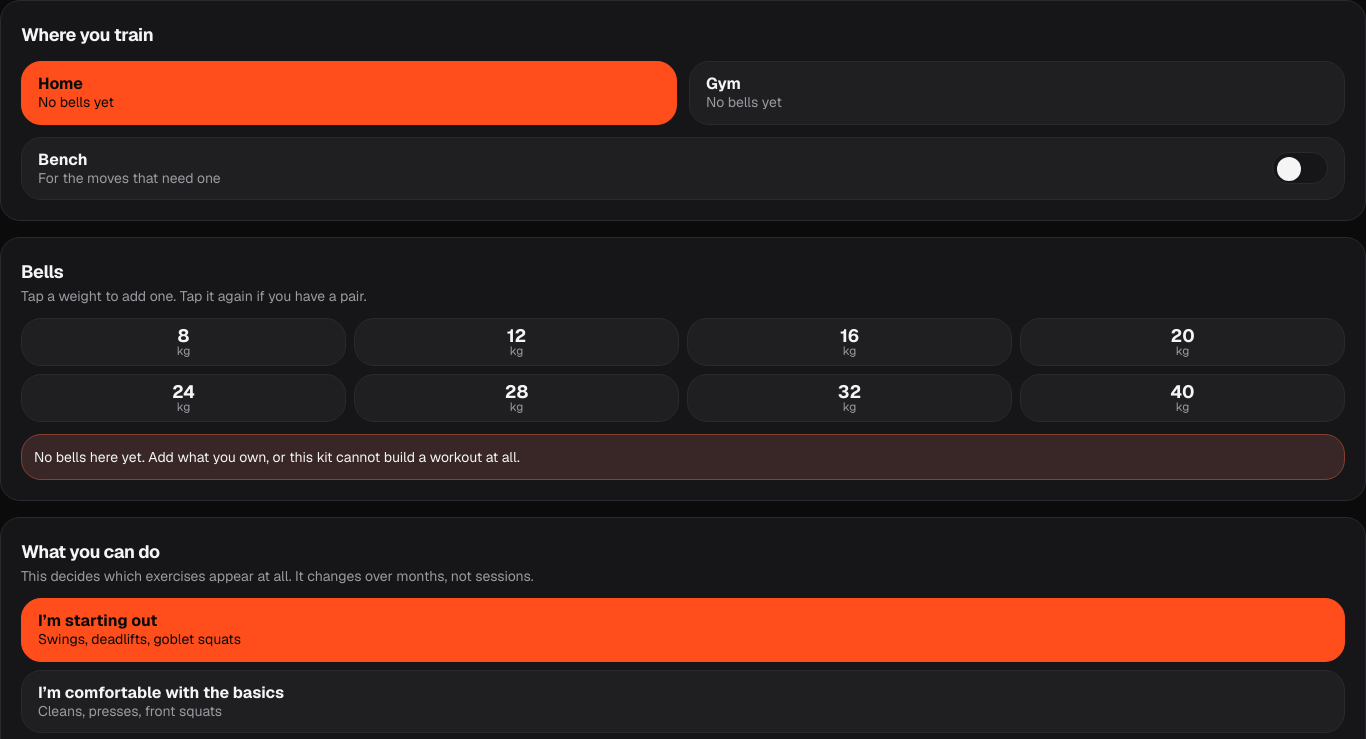
Scenario: KitEditor › warns again if the third weight is taken back off
What coordinates should you click on to do the following:
click the button with aria-label "Add a 16 kg bell"
I would click on:
 (850, 342)
Its box is [687, 318, 1012, 366].
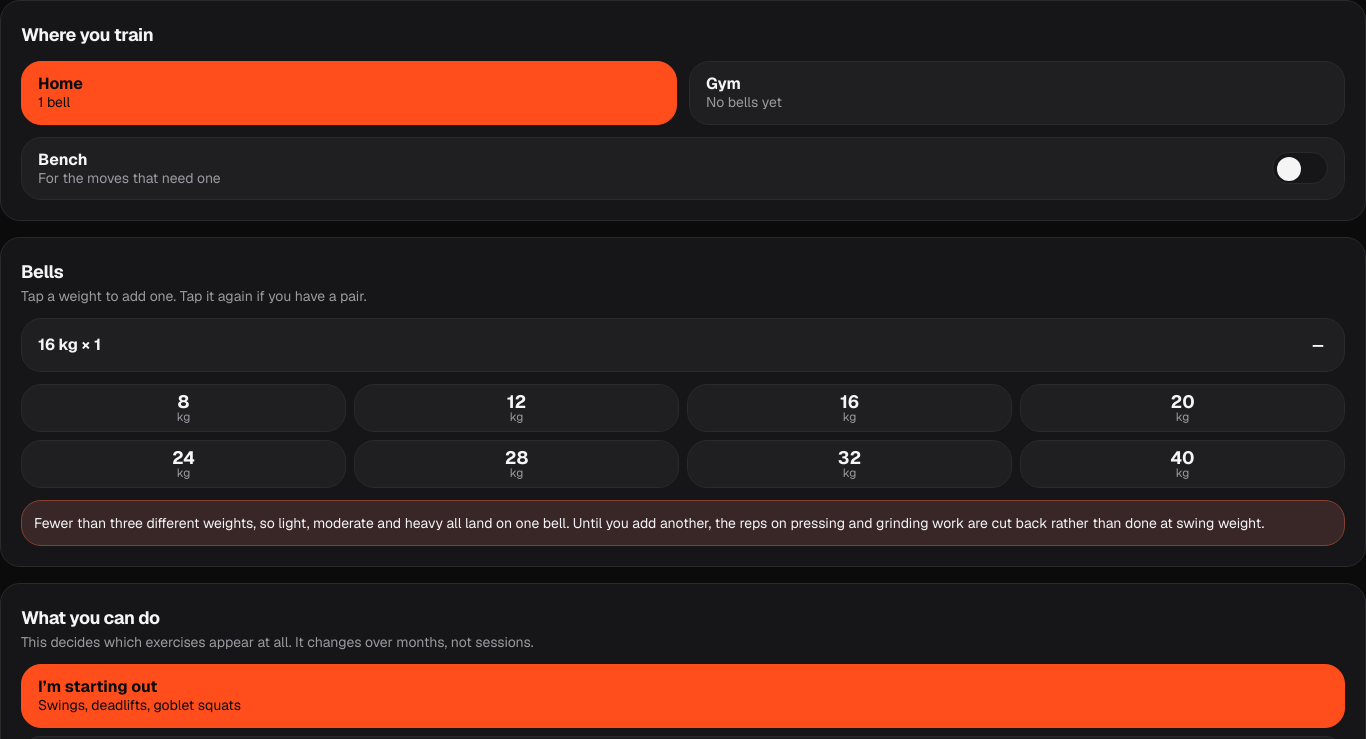
What coordinates should you click on to do the following:
click the button with aria-label "Add a 24 kg bell"
I would click on:
 (184, 464)
Its box is [21, 440, 346, 488].
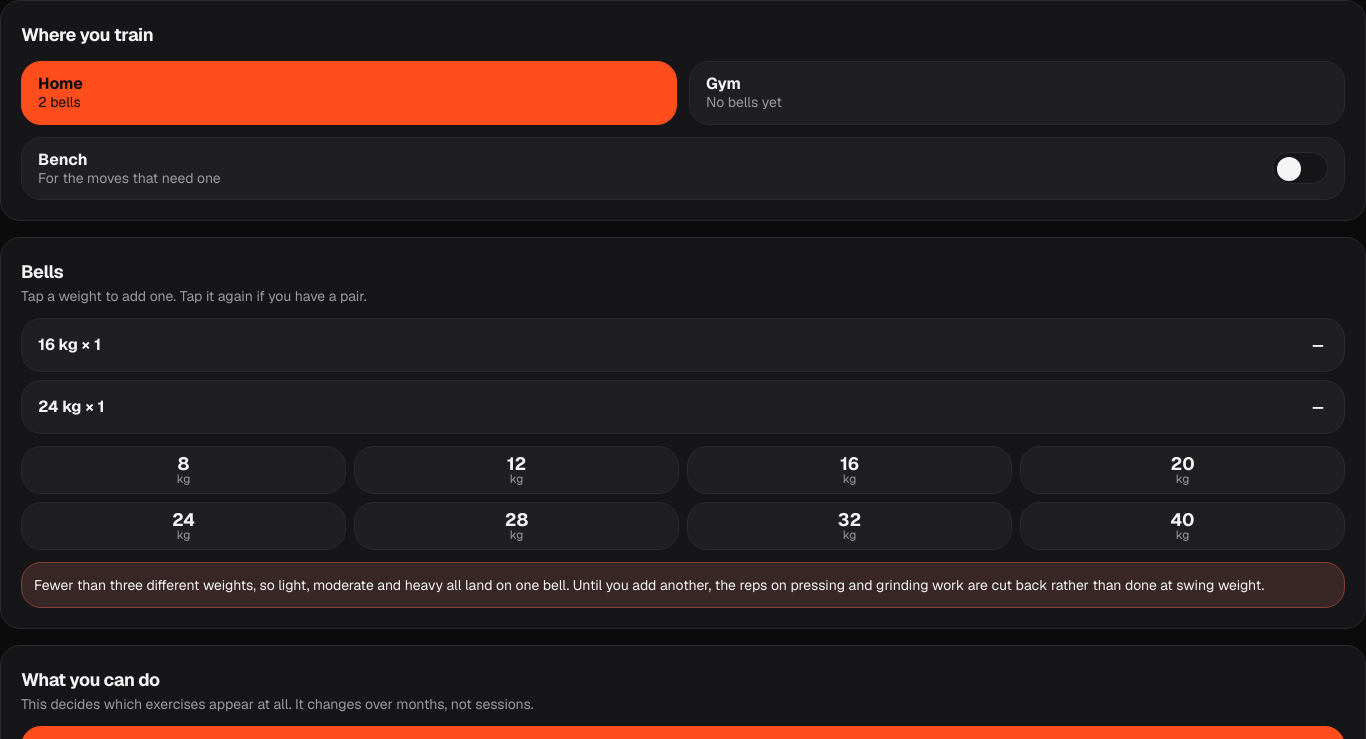
What coordinates should you click on to do the following:
click the button with aria-label "Add a 32 kg bell"
I would click on:
 (850, 526)
Its box is [687, 502, 1012, 550].
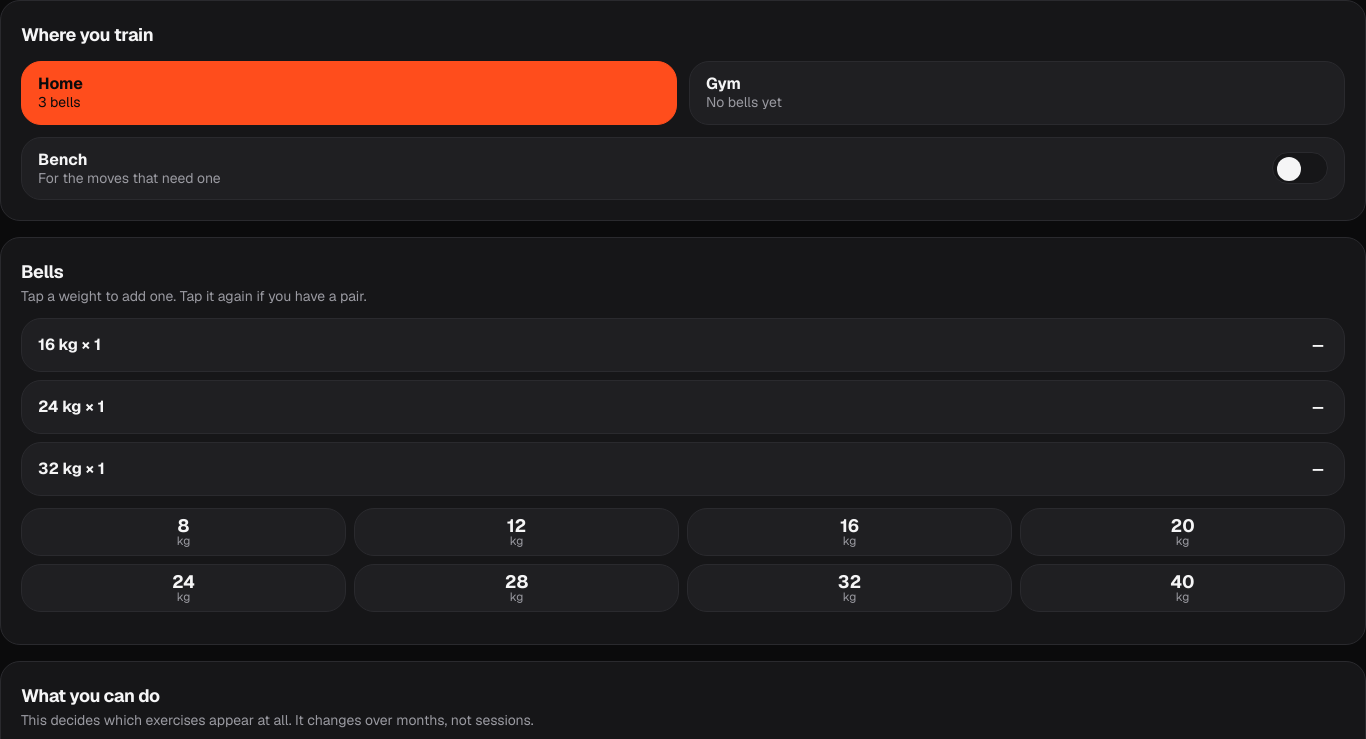
What coordinates should you click on to do the following:
click the button named "Remove a 32 kg bell"
I would click on:
 (1318, 469)
Its box is [1296, 447, 1340, 491].
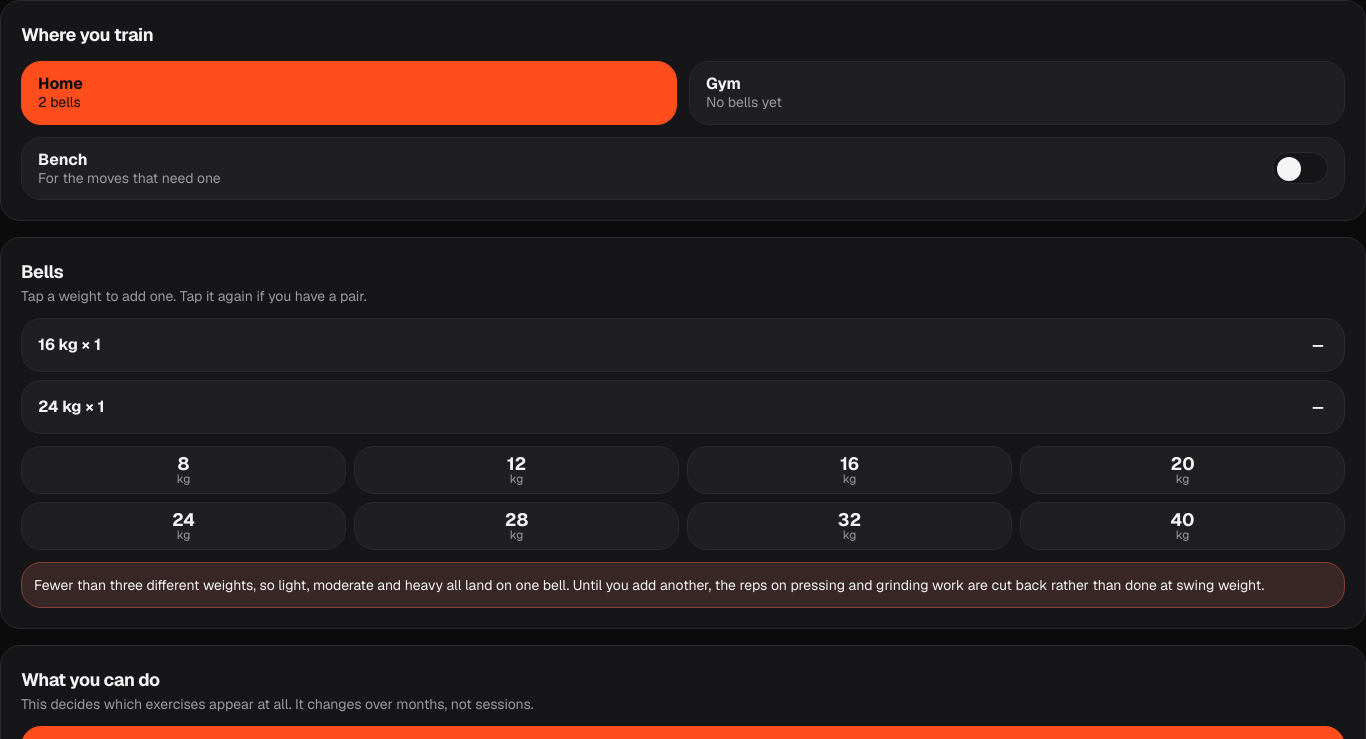
Now the message shows "three different", box [34, 576, 1264, 594]
